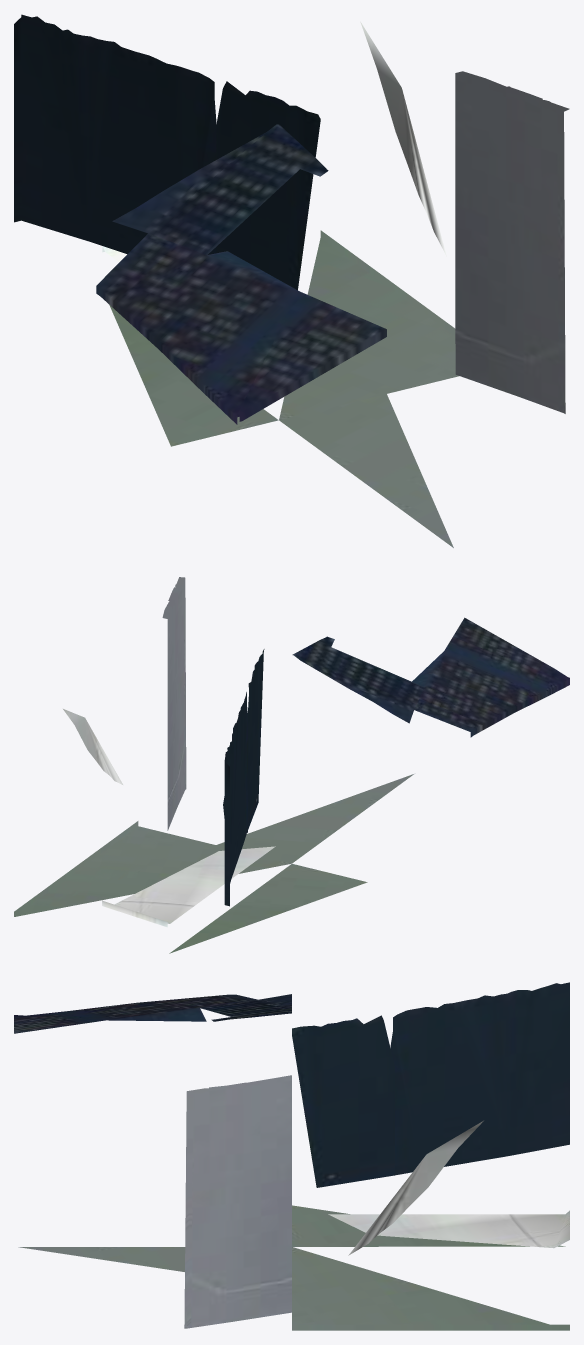
3 renders of one model, top to bottom at view 1: azimuth 30°, elevation 25°; view 2: azimuth 150°, elevation 25°; view 3: azimuth 270°, elevation 25°, orthographic. The views are drawn at different scales.
Parts seen in each view (by area): view 1: 30436272704370425722_1; view 2: 30436272704370425722_1; view 3: 30436272704370425722_1.
Part boxes in pixels (left/top/right/bottom): 30436272704370425722_1: left=14, top=14, right=569, bottom=547; 30436272704370425722_1: left=14, top=577, right=569, bottom=953; 30436272704370425722_1: left=14, top=982, right=569, bottom=1330.
Bounding box in the file's own units: 27.77 × 18.19 × 38.26.
1 material, 1 textured.
